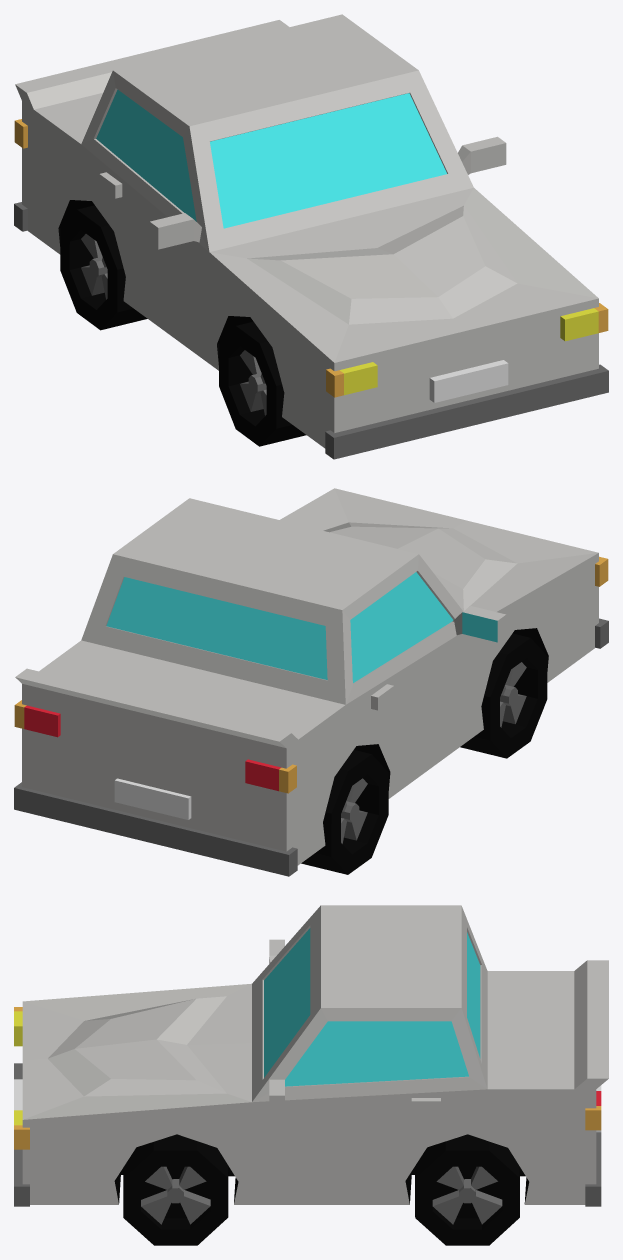
Rendered from Car6.fbx.
3 renders of one model, top to bottom at view 1: azimuth 30°, elevation 25°; view 2: azimuth 150°, elevation 25°; view 3: azimuth 270°, elevation 25°, orthographic. The views are drawn at different scales.
Parts seen in each view (by area): view 1: Car Body.006, Front Bumper.006, Rear Right Wheel.006, Front Right Wheel.006, Door Mirrors.006, Head Lights.006, Front License Plate.006; view 2: Car Body.006, Rear Bumper.006, Front Right Wheel.006, Rear Right Wheel.006, Break Lights.006, Rear License Plate.006, Door Mirrors.006; view 3: Car Body.006, Front Left Wheel.006, Rear Left Wheel.006, Head Lights.006, Door Mirrors.006, Front Bumper.006, Rear Bumper.006, Break Lights.006, Door Handles.006.
Part boxes in pixels (x1=…): Car Body.006: x1=15, y1=14, x2=598, y2=448; Front Bumper.006: x1=325, y1=364, x2=608, y2=459; Rear Right Wheel.006: x1=60, y1=205, x2=147, y2=330; Front Right Wheel.006: x1=219, y1=321, x2=306, y2=446; Door Mirrors.006: x1=149, y1=136, x2=506, y2=249; Head Lights.006: x1=326, y1=303, x2=608, y2=397; Front License Plate.006: x1=429, y1=360, x2=508, y2=402; Car Body.006: x1=15, y1=488, x2=598, y2=865; Rear Bumper.006: x1=14, y1=782, x2=297, y2=876; Front Right Wheel.006: x1=460, y1=633, x2=547, y2=758; Rear Right Wheel.006: x1=301, y1=750, x2=388, y2=874; Break Lights.006: x1=14, y1=700, x2=296, y2=793; Rear License Plate.006: x1=114, y1=778, x2=191, y2=819; Door Mirrors.006: x1=452, y1=606, x2=506, y2=642; Car Body.006: x1=22, y1=905, x2=608, y2=1204; Front Left Wheel.006: x1=123, y1=1134, x2=228, y2=1245; Rear Left Wheel.006: x1=415, y1=1134, x2=519, y2=1245; Head Lights.006: x1=14, y1=1007, x2=29, y2=1149; Door Mirrors.006: x1=269, y1=939, x2=284, y2=1115; Front Bumper.006: x1=14, y1=1063, x2=29, y2=1206; Rear Bumper.006: x1=585, y1=1132, x2=601, y2=1206; Break Lights.006: x1=585, y1=1091, x2=601, y2=1130; Door Handles.006: x1=411, y1=1098, x2=440, y2=1113.
Bounding box in the file's own units: 409 × 279 × 659.
